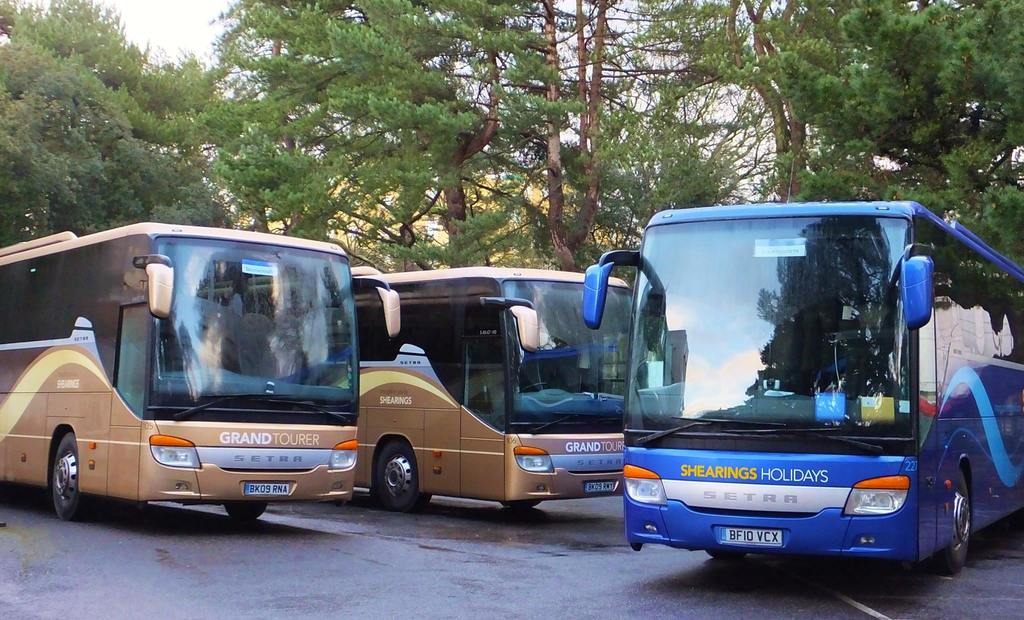Bus: (582, 199, 1023, 571), (2, 215, 403, 519), (195, 263, 636, 509)
